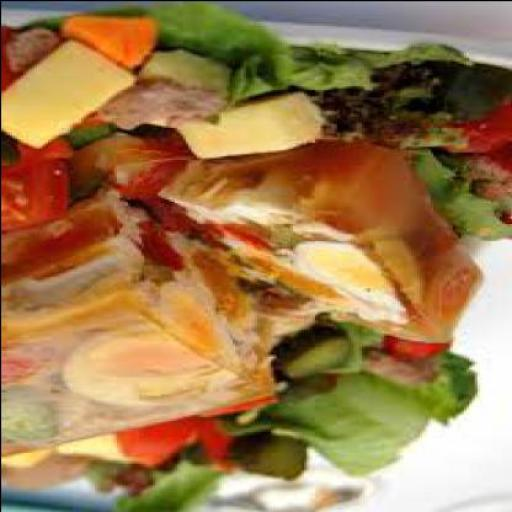biodegradable: (115, 142, 482, 348), (3, 198, 278, 467), (284, 374, 435, 480), (152, 4, 294, 106), (2, 44, 140, 146), (415, 100, 511, 244), (82, 50, 242, 130), (322, 72, 473, 153), (182, 87, 328, 159), (80, 128, 182, 202), (256, 50, 400, 98), (112, 458, 234, 512), (275, 322, 388, 380), (57, 15, 168, 70), (430, 60, 510, 128), (2, 152, 69, 230), (405, 359, 479, 425), (110, 422, 198, 468), (355, 45, 476, 76), (217, 420, 333, 448), (239, 436, 311, 481), (2, 455, 104, 485), (385, 329, 457, 366), (2, 24, 60, 68), (193, 415, 237, 472), (200, 397, 292, 421), (54, 433, 124, 463), (281, 376, 341, 410), (369, 357, 430, 389), (22, 132, 83, 162), (121, 464, 166, 496), (3, 444, 55, 470), (82, 470, 122, 495), (132, 453, 182, 473)
